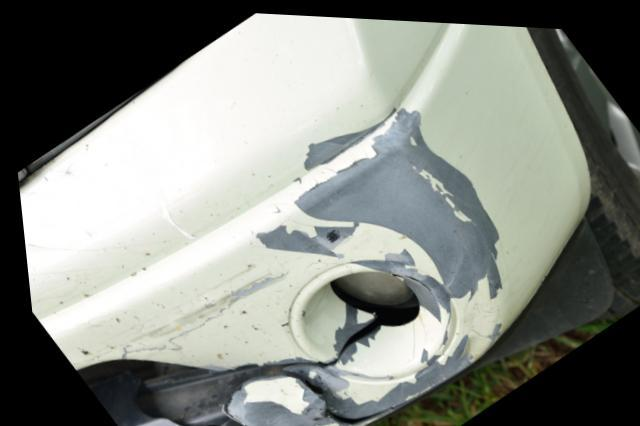crack: (277, 366, 377, 422), (285, 313, 375, 362)
scratch: (248, 101, 510, 412), (58, 266, 279, 370), (217, 373, 314, 426)
